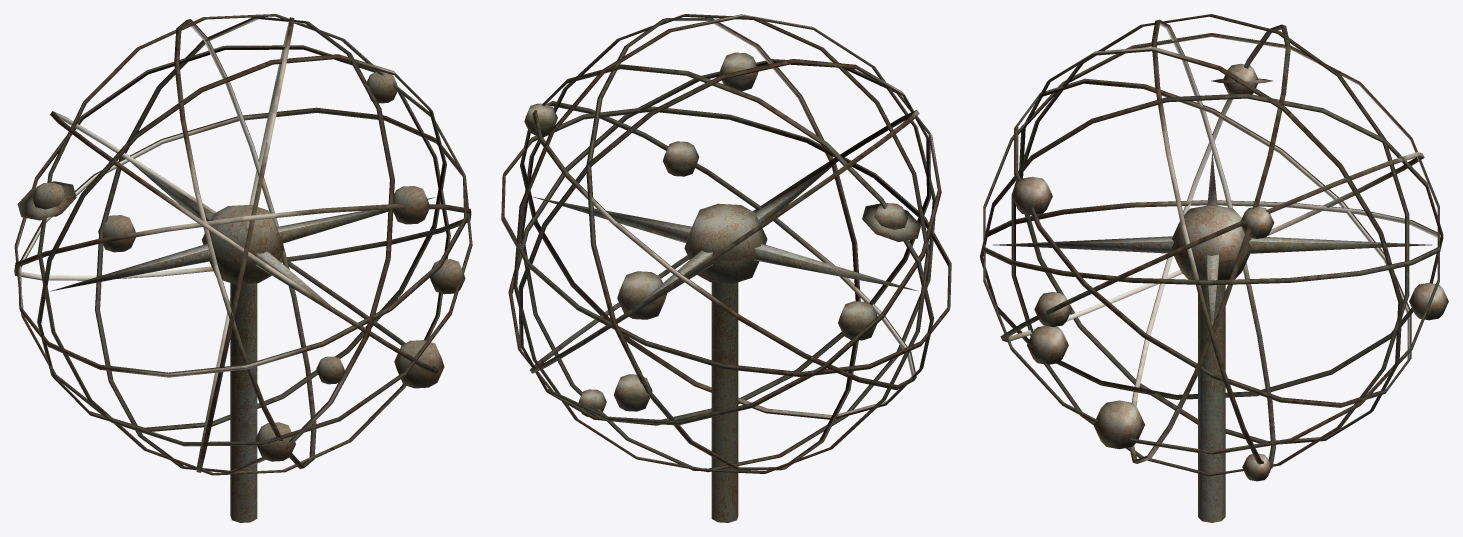
Rendered from weltzeituhr.glb.
The picture shows the model from 3 angles, left to right: view 1: azimuth 30°, elevation 25°; view 2: azimuth 150°, elevation 25°; view 3: azimuth 270°, elevation 25°; orthographic projection.
Visible parts, largest first — view 1: Tube01; view 2: Tube01; view 3: Tube01.
Boxes of the visible parts, left/top/right/bottom form: Tube01: left=14, top=14, right=472, bottom=522; Tube01: left=501, top=14, right=951, bottom=522; Tube01: left=980, top=14, right=1448, bottom=522.
Bounding box in the file's own units: 126 × 142 × 127.
1 material, 1 textured.
